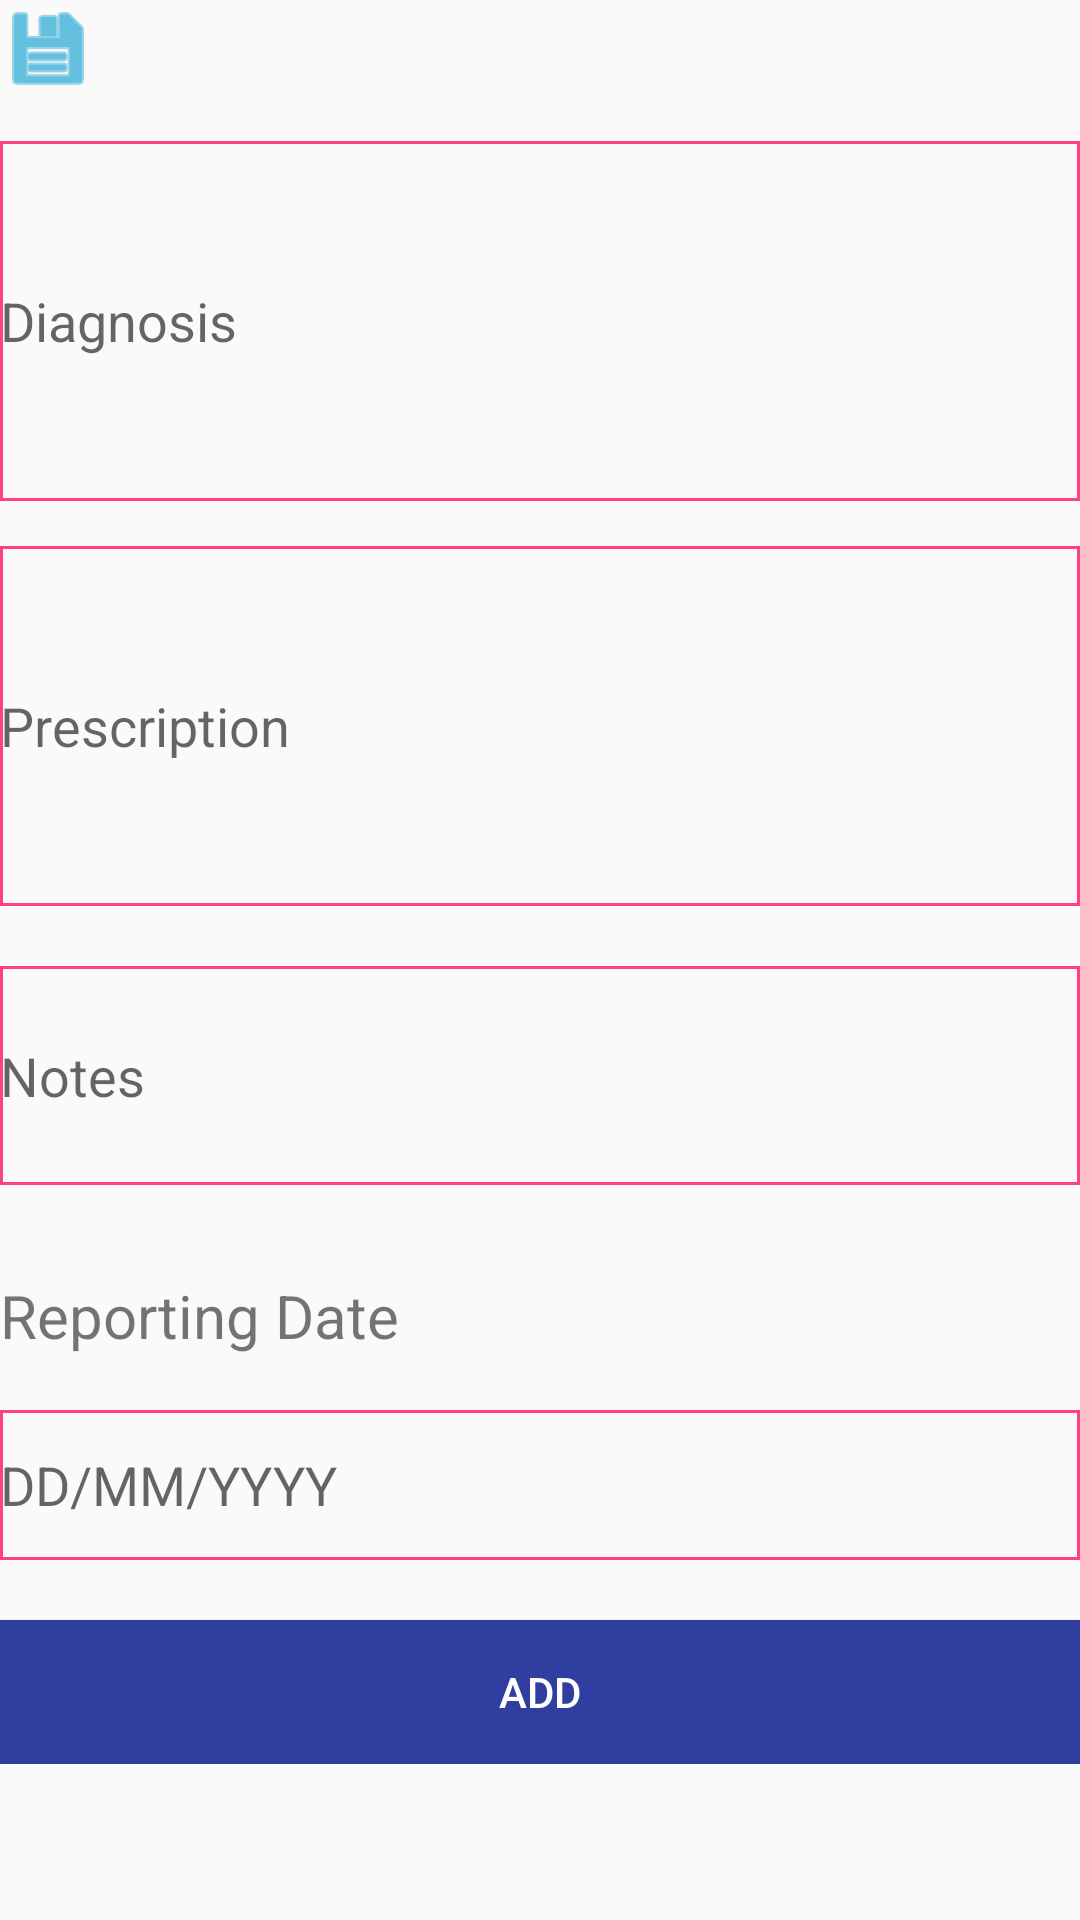

Where icons sit on this 1080w x 1920h app screen, as (left=x1, top=y1, right=x2, bottom=y2):
save: (left=12, top=12, right=84, bottom=85)
